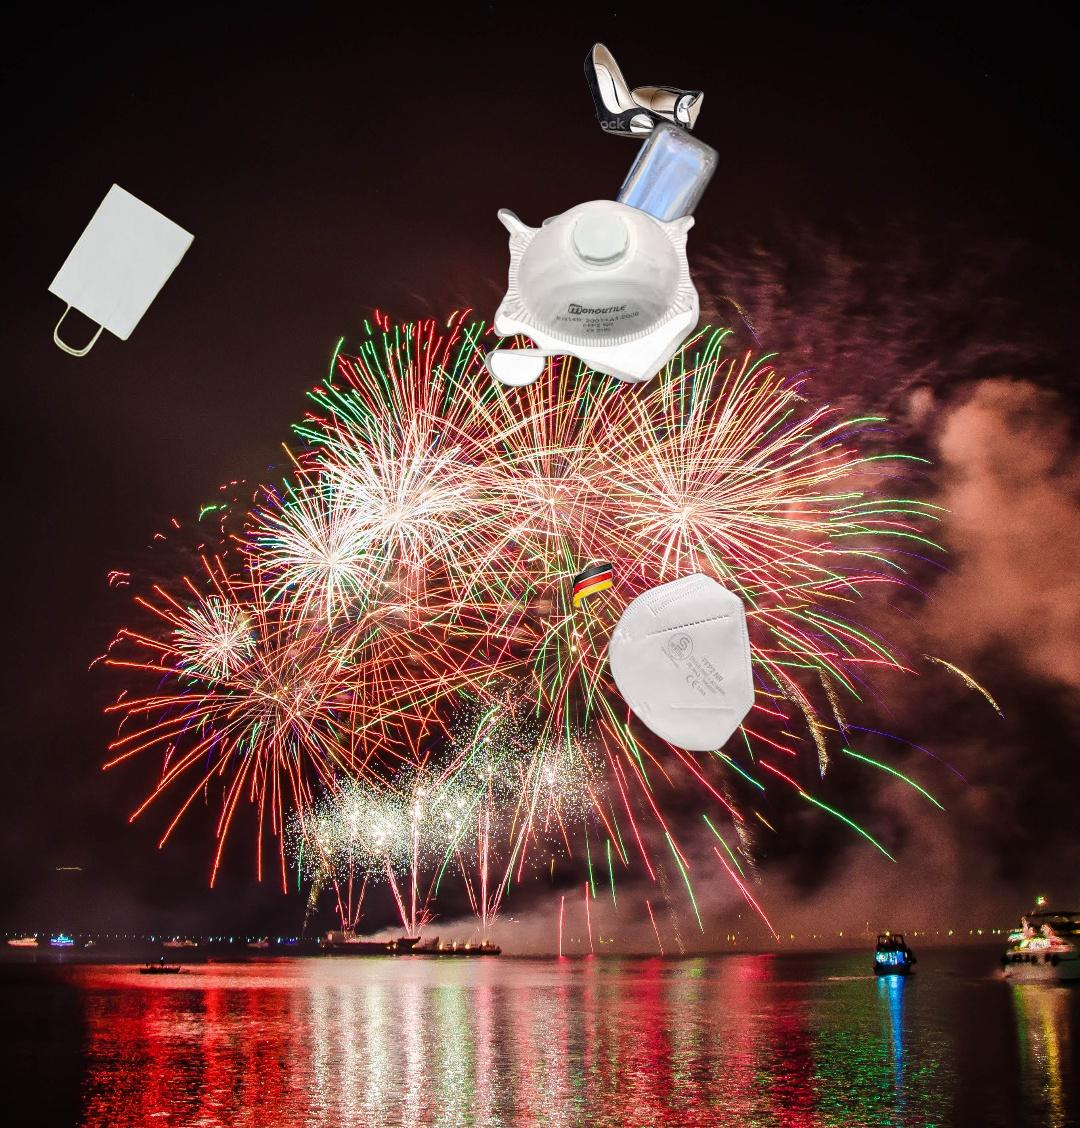paper-bag: (46, 180, 198, 360)
plastic-bottles: (560, 115, 725, 610)
shoes: (581, 40, 707, 142)
trash: (482, 197, 703, 390), (569, 559, 758, 754)
